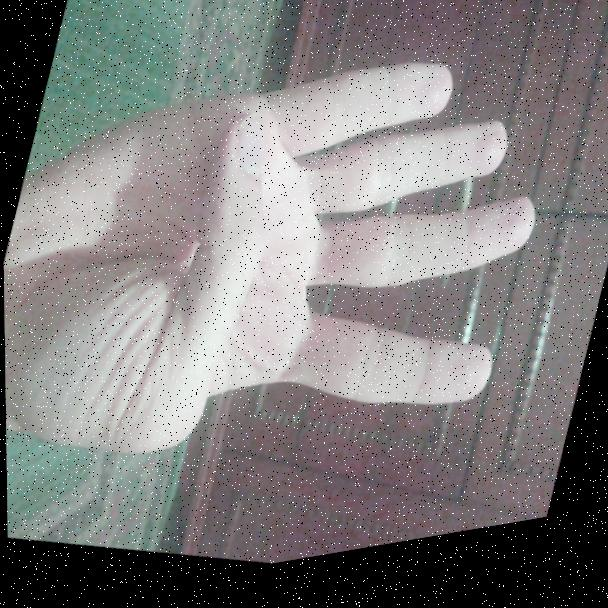four: (0, 0, 594, 592)
